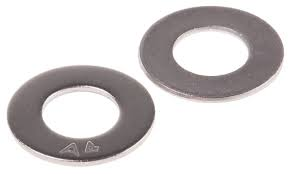No thread: (39, 87, 126, 137), (166, 30, 258, 74)
